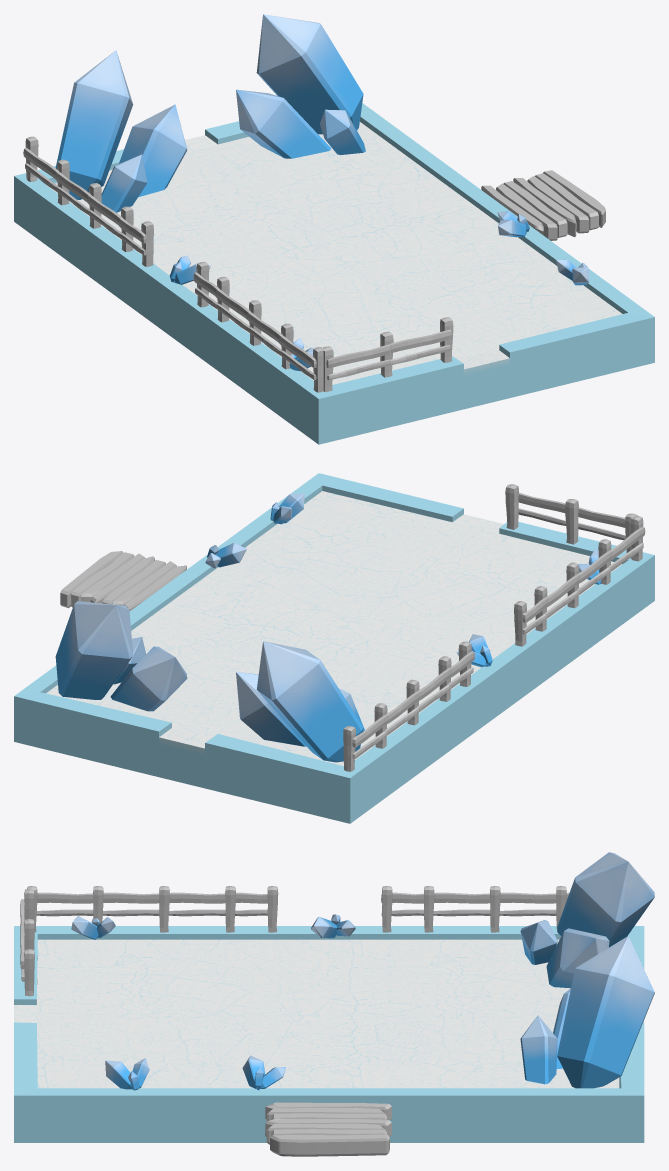
File: Snow Map (3).fbx
3 renders of one model, top to bottom at view 1: azimuth 30°, elevation 25°; view 2: azimuth 150°, elevation 25°; view 3: azimuth 270°, elevation 25°, orthographic. The views are drawn at different scales.
Visible parts, largest first — view 1: Floor, Crystal, Fence, Brigde, Fence2, Crystal2, Crystal1; view 2: Floor, Crystal, Fence, Brigde, Fence2, Crystal2, Crystal1; view 3: Floor, Crystal, Fence, Brigde, Crystal1, Crystal2, Fence2.
Part boxes in pixels (left/top/right/bottom): Floor: left=14, top=103, right=654, bottom=444; Crystal: left=55, top=14, right=365, bottom=212; Fence: left=23, top=136, right=323, bottom=392; Brigde: left=481, top=170, right=605, bottom=240; Fence2: left=322, top=317, right=453, bottom=392; Crystal2: left=169, top=211, right=529, bottom=284; Crystal1: left=289, top=259, right=589, bottom=371; Floor: left=14, top=473, right=654, bottom=823; Crystal: left=55, top=601, right=364, bottom=762; Fence: left=343, top=516, right=645, bottom=771; Brigde: left=60, top=551, right=186, bottom=610; Fence2: left=505, top=484, right=637, bottom=558; Crystal2: left=205, top=542, right=492, bottom=667; Crystal1: left=270, top=493, right=601, bottom=584; Floor: left=14, top=926, right=644, bottom=1142; Crystal: left=520, top=852, right=654, bottom=1088; Fence: left=27, top=886, right=630, bottom=932; Brigde: left=265, top=1102, right=391, bottom=1156; Crystal1: left=71, top=916, right=149, bottom=1090; Crystal2: left=242, top=914, right=355, bottom=1090; Fence2: left=20, top=888, right=34, bottom=996.
Size of the model in its own units: 44.53 by 15.73 by 57.33.
